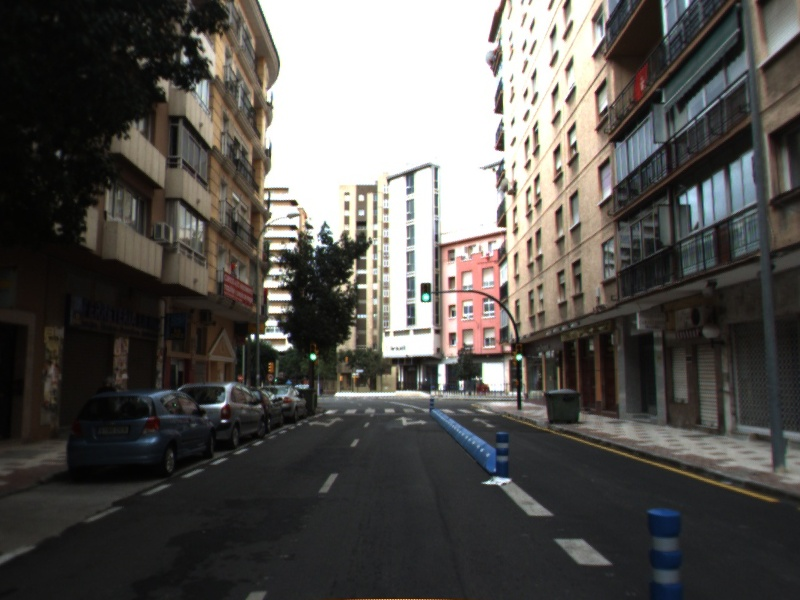STRAIGHT: (470, 415, 497, 429)
STRAIGHT_LEFT: (307, 415, 345, 428)
STRAIGHT_RIGHT: (393, 414, 429, 428)
